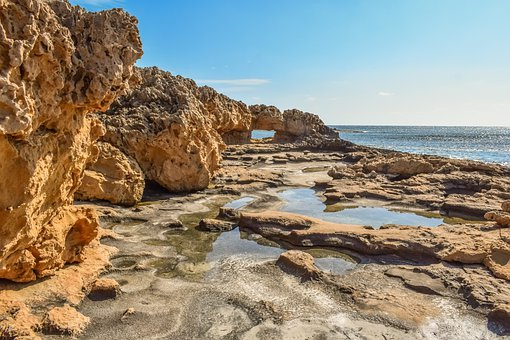sea: (112, 126, 510, 275)
sky: (169, 3, 501, 120)
stone: (3, 7, 239, 234)
